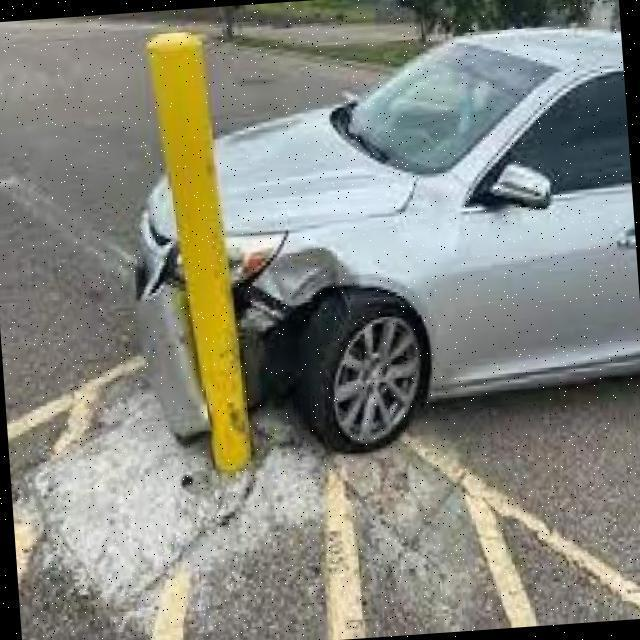accident: (116, 17, 640, 469)
